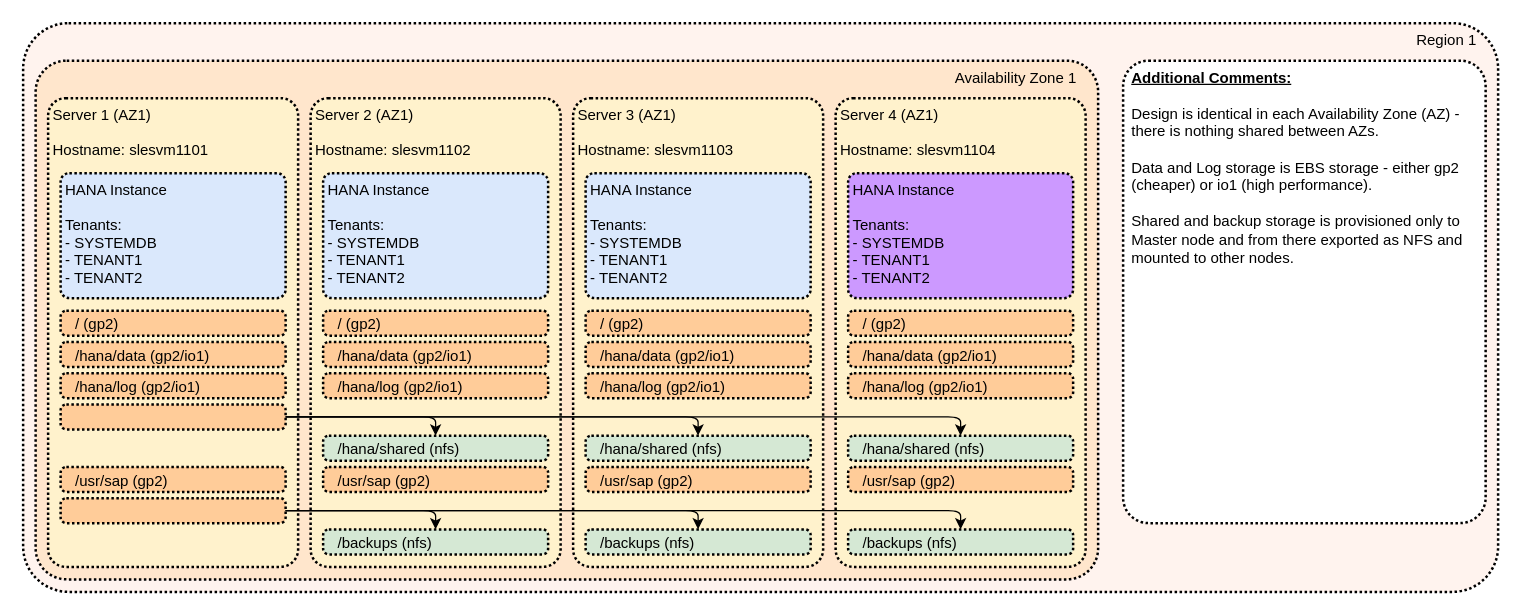
Some shapes in this 1520 by 614 pixel diagram are drawn without their labels. The centre of each missing label's shape, as x and y in pixels:
"/backups (st1)" goes at point 172,510.
"/hana/shared (gp2)" goes at point 172,416.
